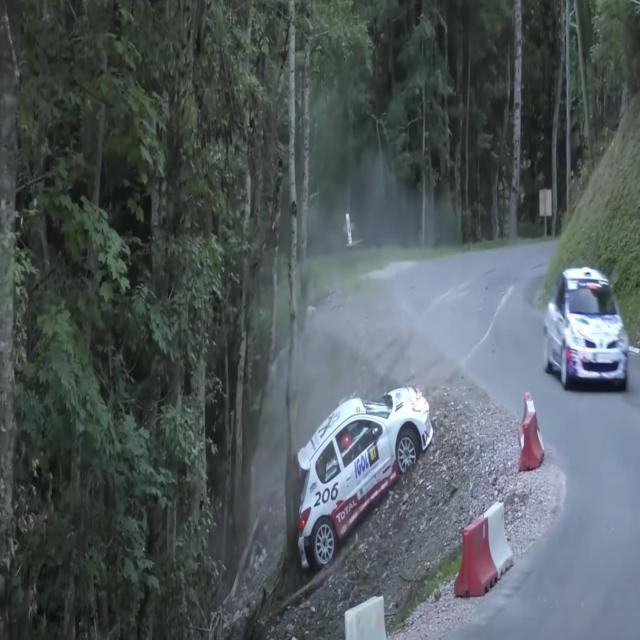accident: (288, 364, 437, 576)
